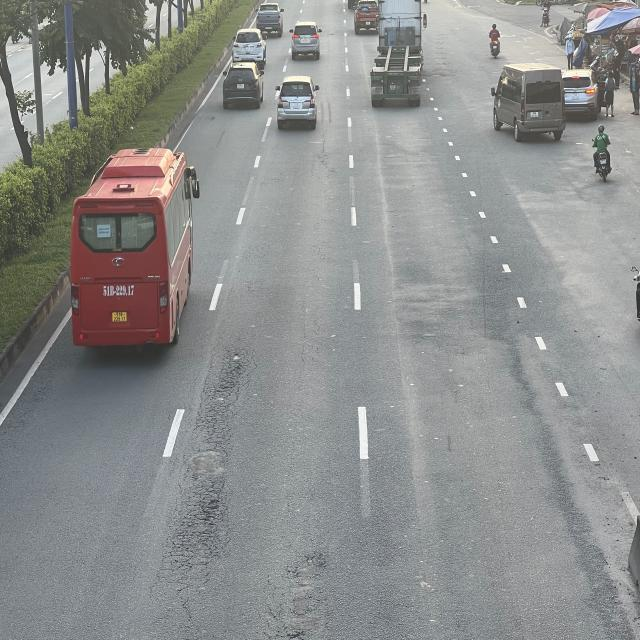car: (275, 77, 320, 128), (222, 63, 265, 107), (563, 67, 602, 115), (232, 27, 267, 66), (288, 18, 321, 57), (257, 2, 286, 38)
coach: (74, 150, 204, 351)
container: (370, 1, 426, 110)
van: (494, 62, 567, 139)
